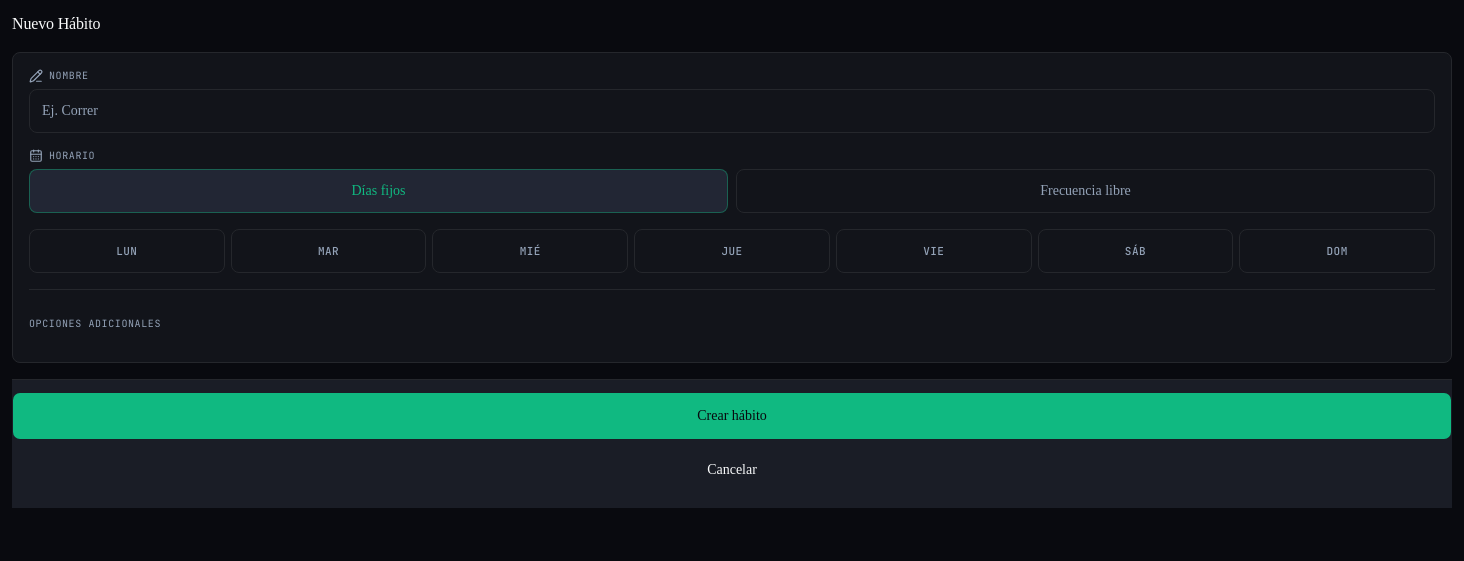
Test: HabitForm › rejects saving a fixed-days habit with no day selected (edge case)
In the field labelled "Nombre": coordinates (732, 111) [29, 89, 1435, 133], type "Correr"
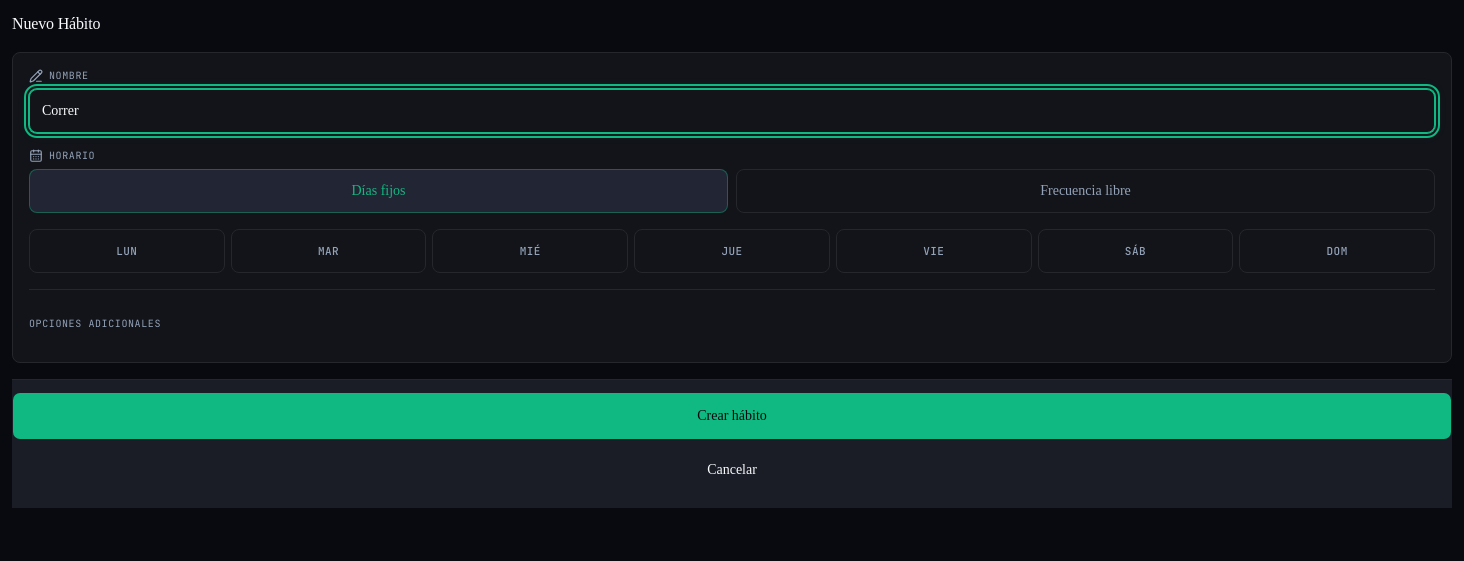
Submit the form with test id "habit-form"
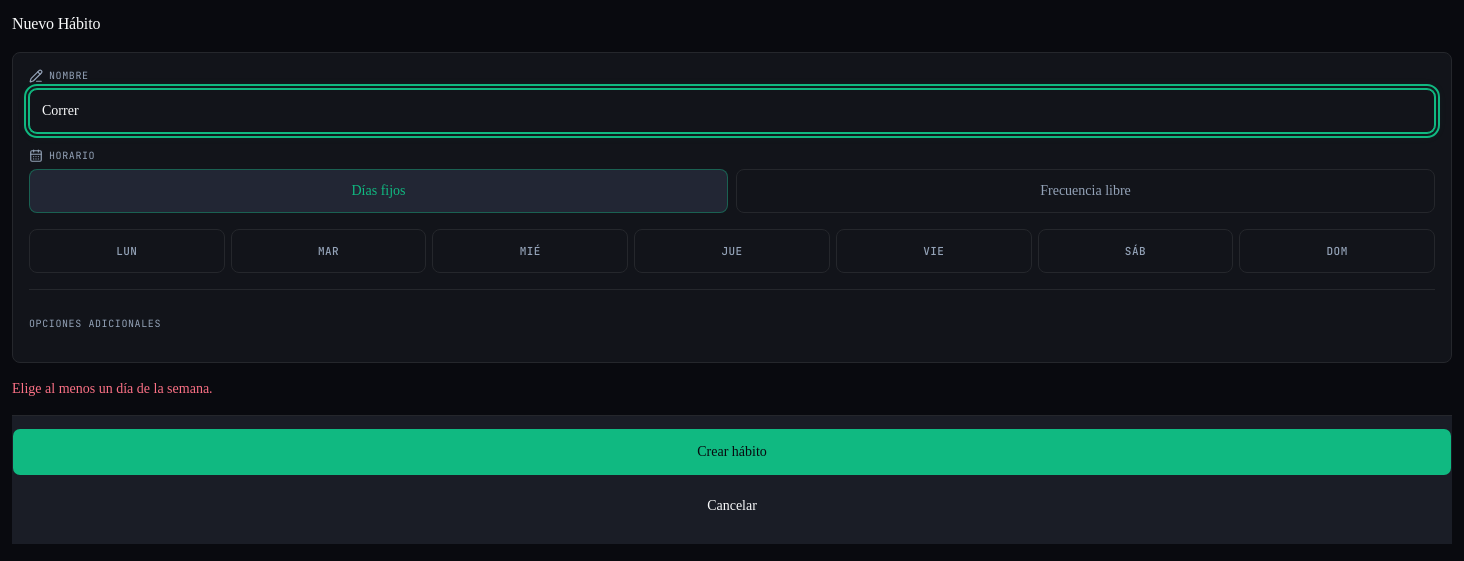
Result: the text "Elige al menos un día de la semana." is shown at [12, 381, 213, 396]
